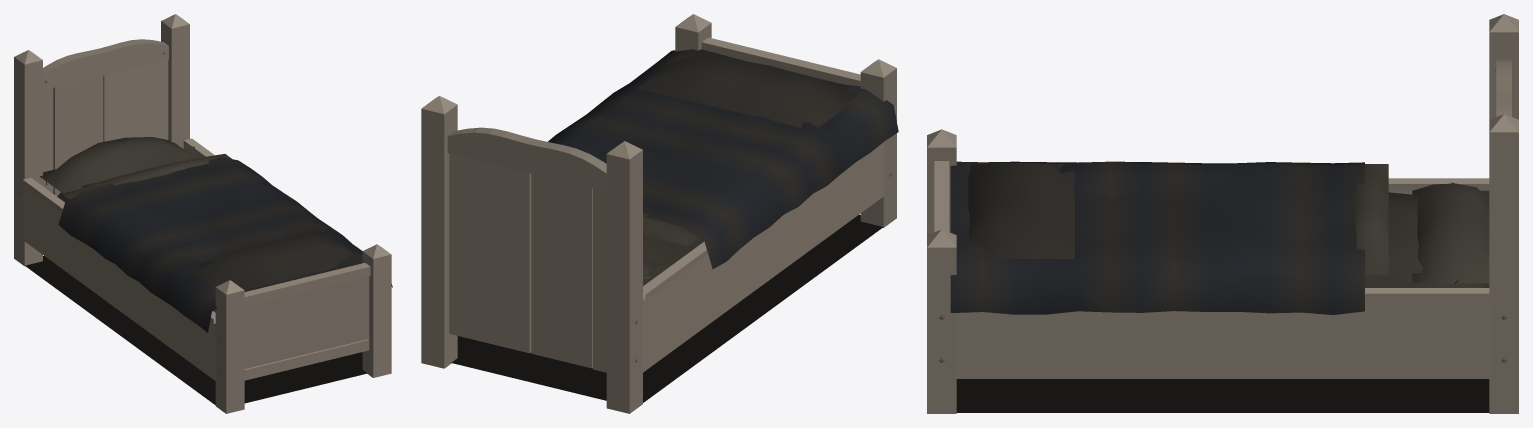
The model's file is prop_inn_bed.glb.
3 views of the same model, side by side, from view 1: azimuth 30°, elevation 25°; view 2: azimuth 150°, elevation 25°; view 3: azimuth 270°, elevation 25° (orthographic). The views are drawn at different scales.
Visible parts, largest first — view 1: InnBed, InnBedSoft; view 2: InnBed, InnBedSoft; view 3: InnBed, InnBedSoft.
Part boxes in pixels (x1=…): InnBed: x1=14, y1=14, x2=391, y2=413; InnBedSoft: x1=40, y1=137, x2=392, y2=332; InnBed: x1=421, y1=14, x2=896, y2=413; InnBedSoft: x1=548, y1=49, x2=898, y2=285; InnBed: x1=927, y1=14, x2=1518, y2=413; InnBedSoft: x1=950, y1=161, x2=1489, y2=314.
Size of the model in its own units: 1.02 by 1.1 by 2.
